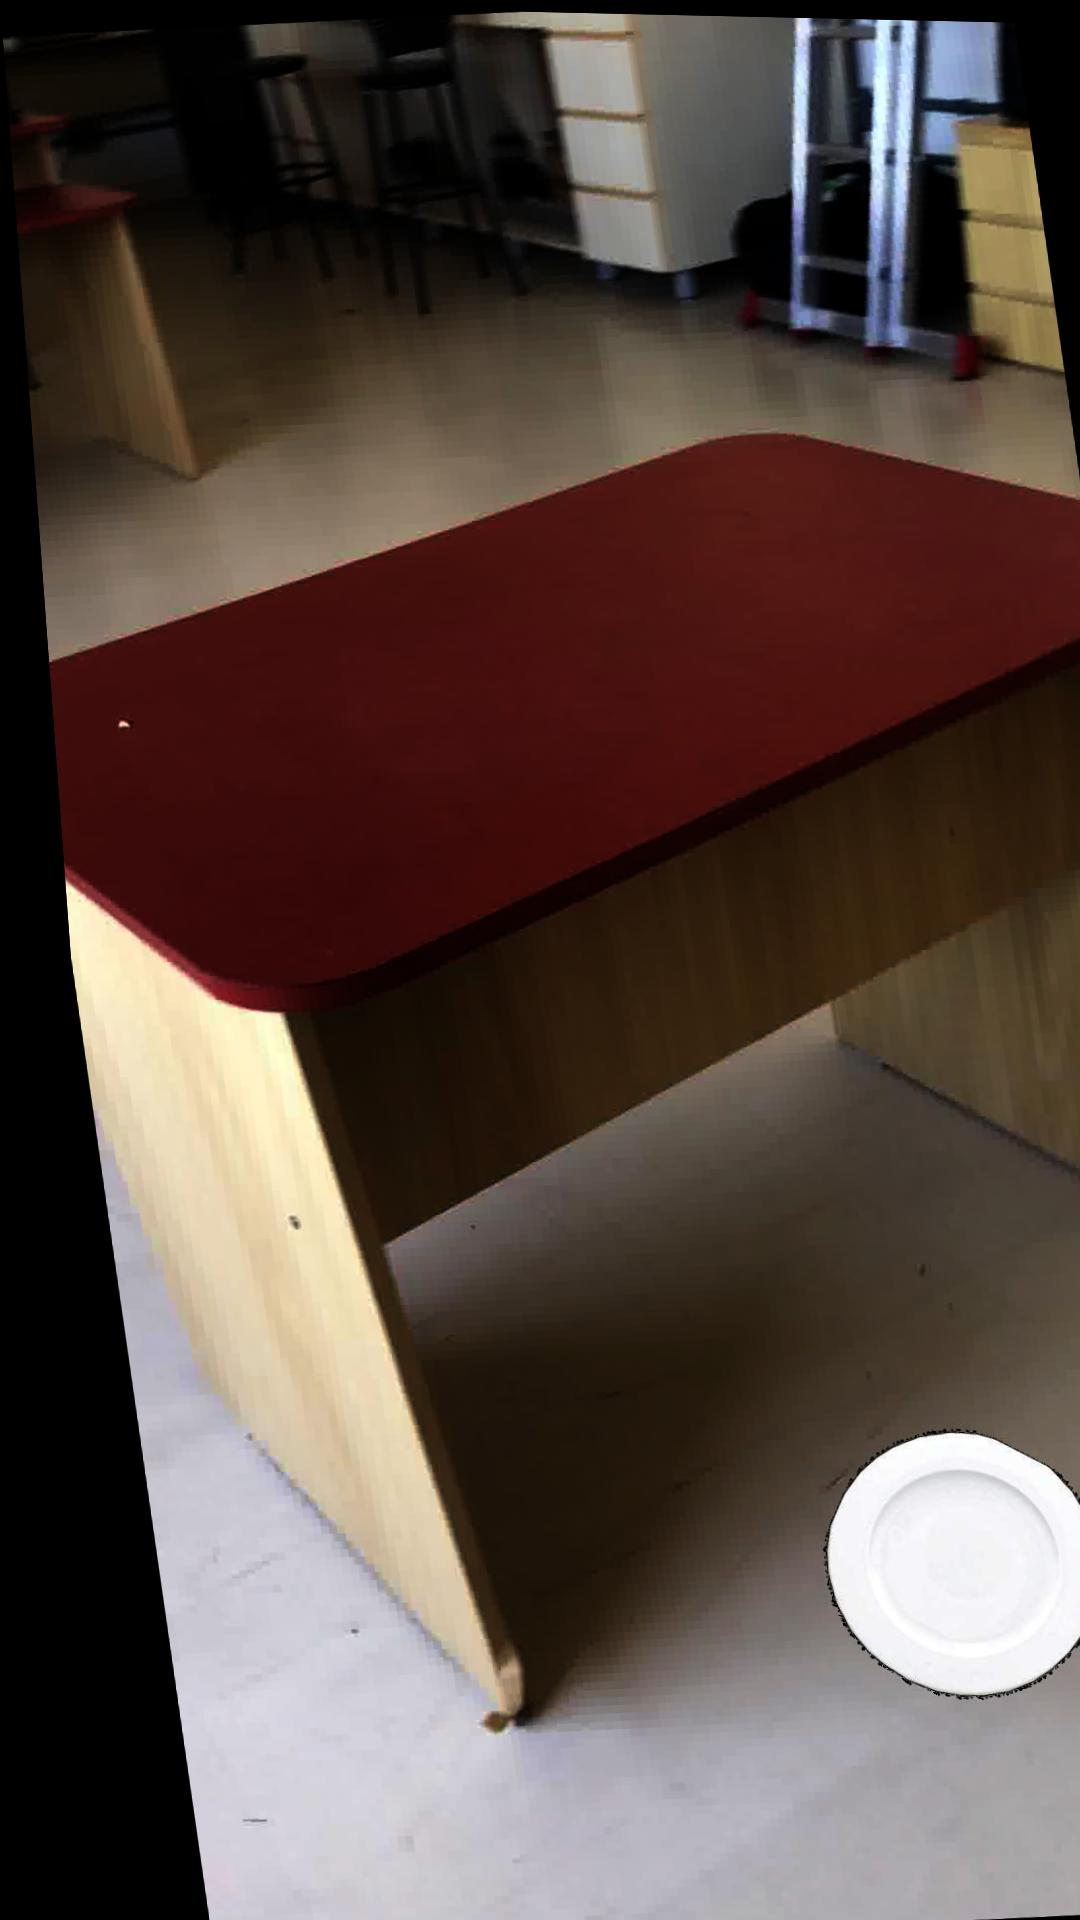plate: (798, 1423, 1075, 1693)
